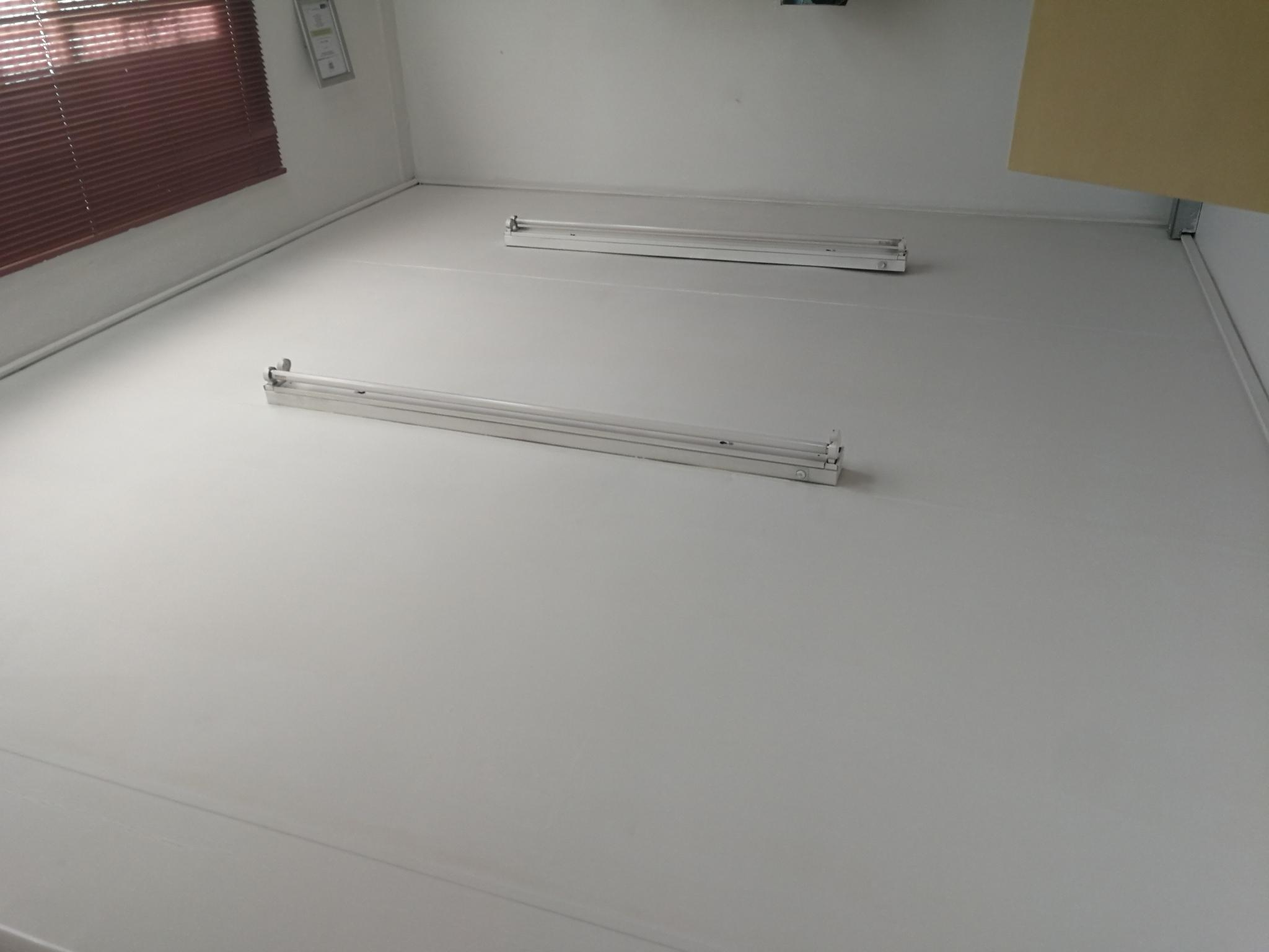light: (258, 348, 850, 485), (506, 201, 919, 278)
